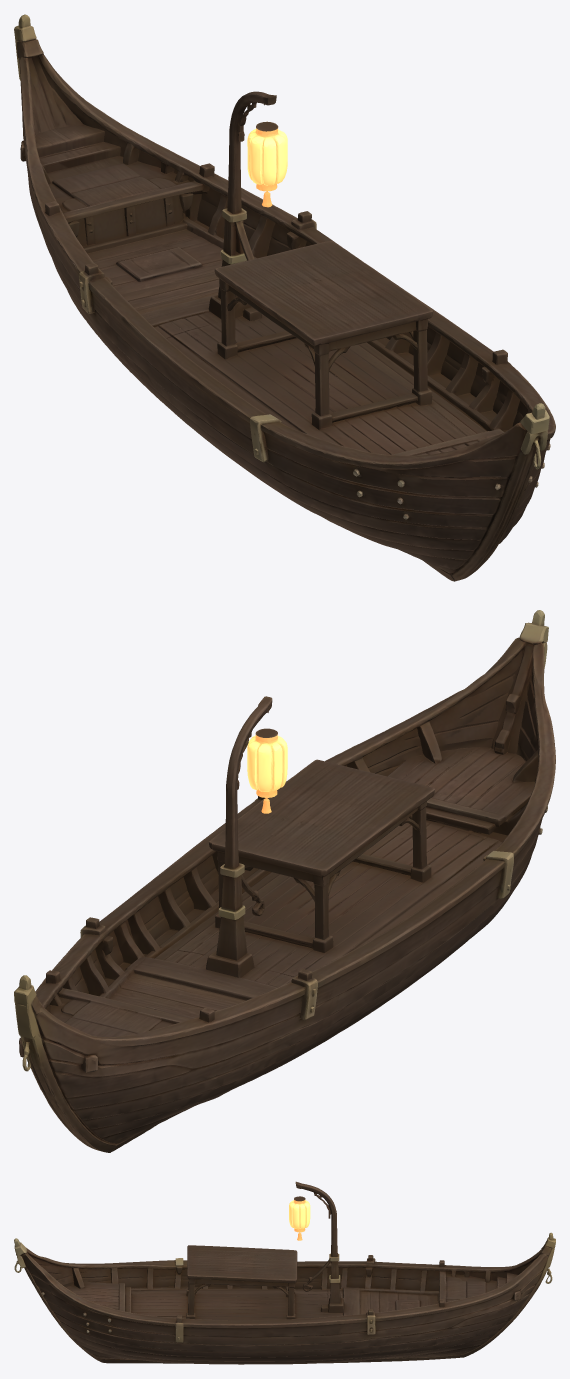
File: lantern-study-boat.glb
The picture shows the model from 3 angles, top to bottom: view 1: azimuth 30°, elevation 25°; view 2: azimuth 150°, elevation 25°; view 3: azimuth 270°, elevation 25°; orthographic projection. The views are drawn at different scales.
Parts seen in each view (by area): view 1: model; view 2: model; view 3: model.
Boxes of the visible parts, <box> form: model: <box>14,14,555,581</box>; model: <box>14,610,555,1152</box>; model: <box>14,1181,555,1364</box>.
Bounding box in the file's own units: 0.5352 × 0.6998 × 1.9.
Materials: 2 (2 with a texture image).
